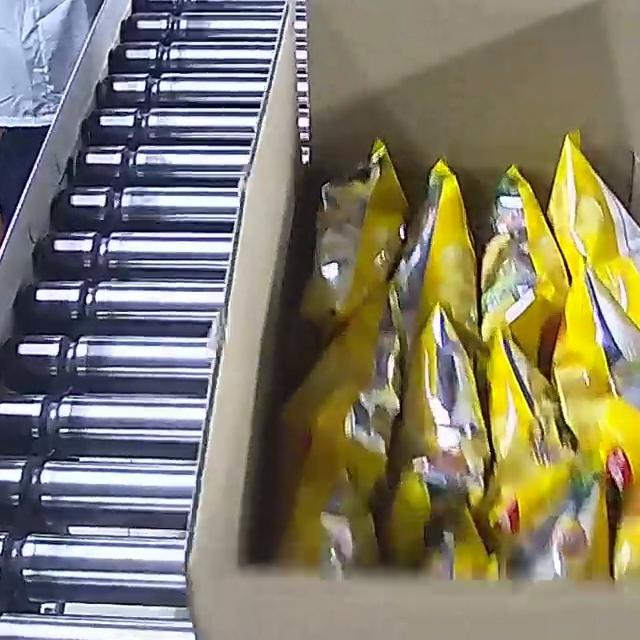salted: (271, 126, 640, 584)
